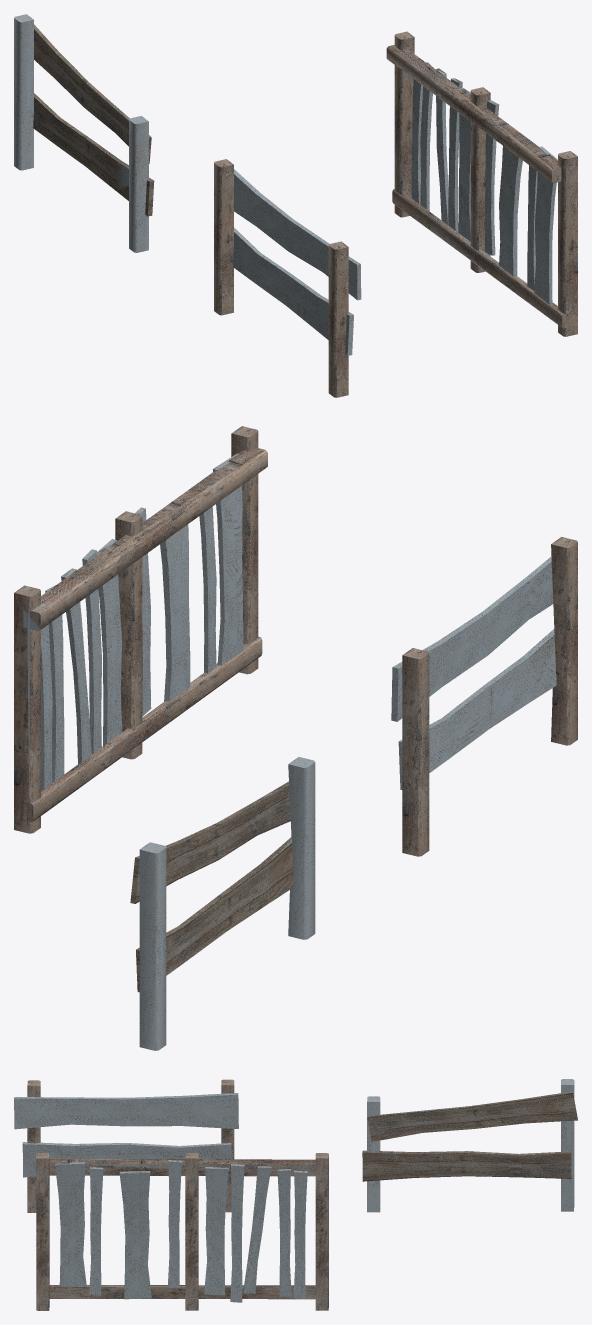
The model's file is Fence.fbx.
The picture shows the model from 3 angles, top to bottom: view 1: azimuth 30°, elevation 25°; view 2: azimuth 150°, elevation 25°; view 3: azimuth 270°, elevation 25°; orthographic projection. The views are drawn at different scales.
Visible parts, largest first — view 1: Group1, Group2, Group3; view 2: Group1, Group2, Group3; view 3: Group1, Group3, Group2.
Boxes of the visible parts, x1=… form: Group1: x1=386, y1=31, x2=577, y2=336; Group2: x1=214, y1=159, x2=361, y2=397; Group3: x1=14, y1=14, x2=154, y2=252; Group1: x1=14, y1=426, x2=267, y2=833; Group2: x1=391, y1=537, x2=577, y2=856; Group3: x1=130, y1=757, x2=315, y2=1050; Group1: x1=36, y1=1153, x2=328, y2=1310; Group3: x1=362, y1=1079, x2=577, y2=1212; Group2: x1=14, y1=1079, x2=238, y2=1212.
Size of the model in its own units: 94.06 by 63.64 by 214.
